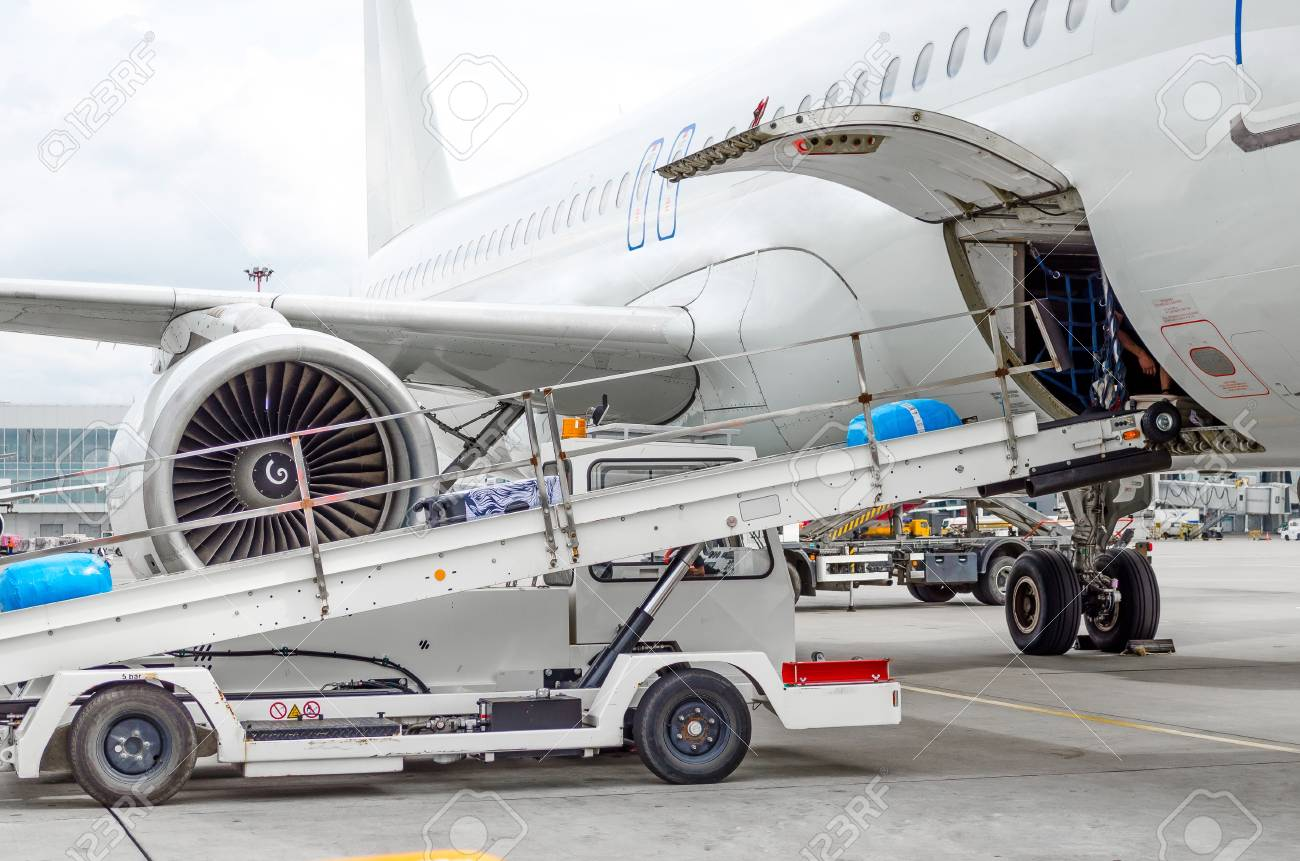baggageTruck: (1, 300, 1151, 817)
